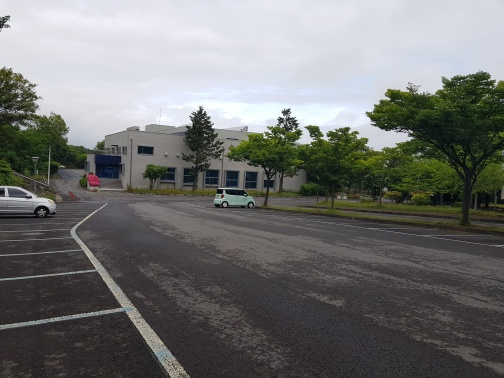College of Social Sciences: (82, 122, 317, 198)
